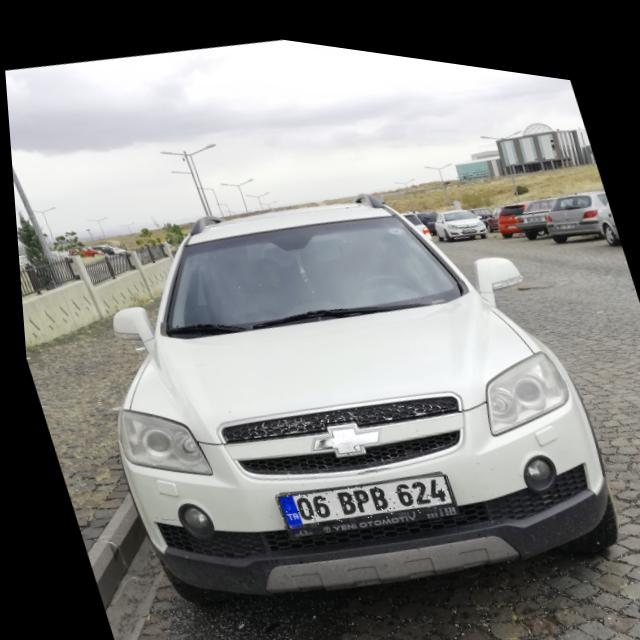license_plate: (264, 444, 451, 541)
